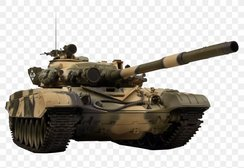t72: (7, 39, 242, 156)
